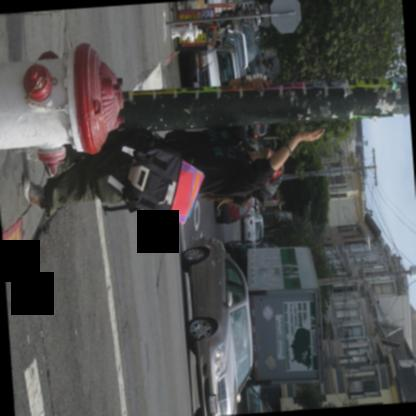backpack: (102, 136, 192, 217)
